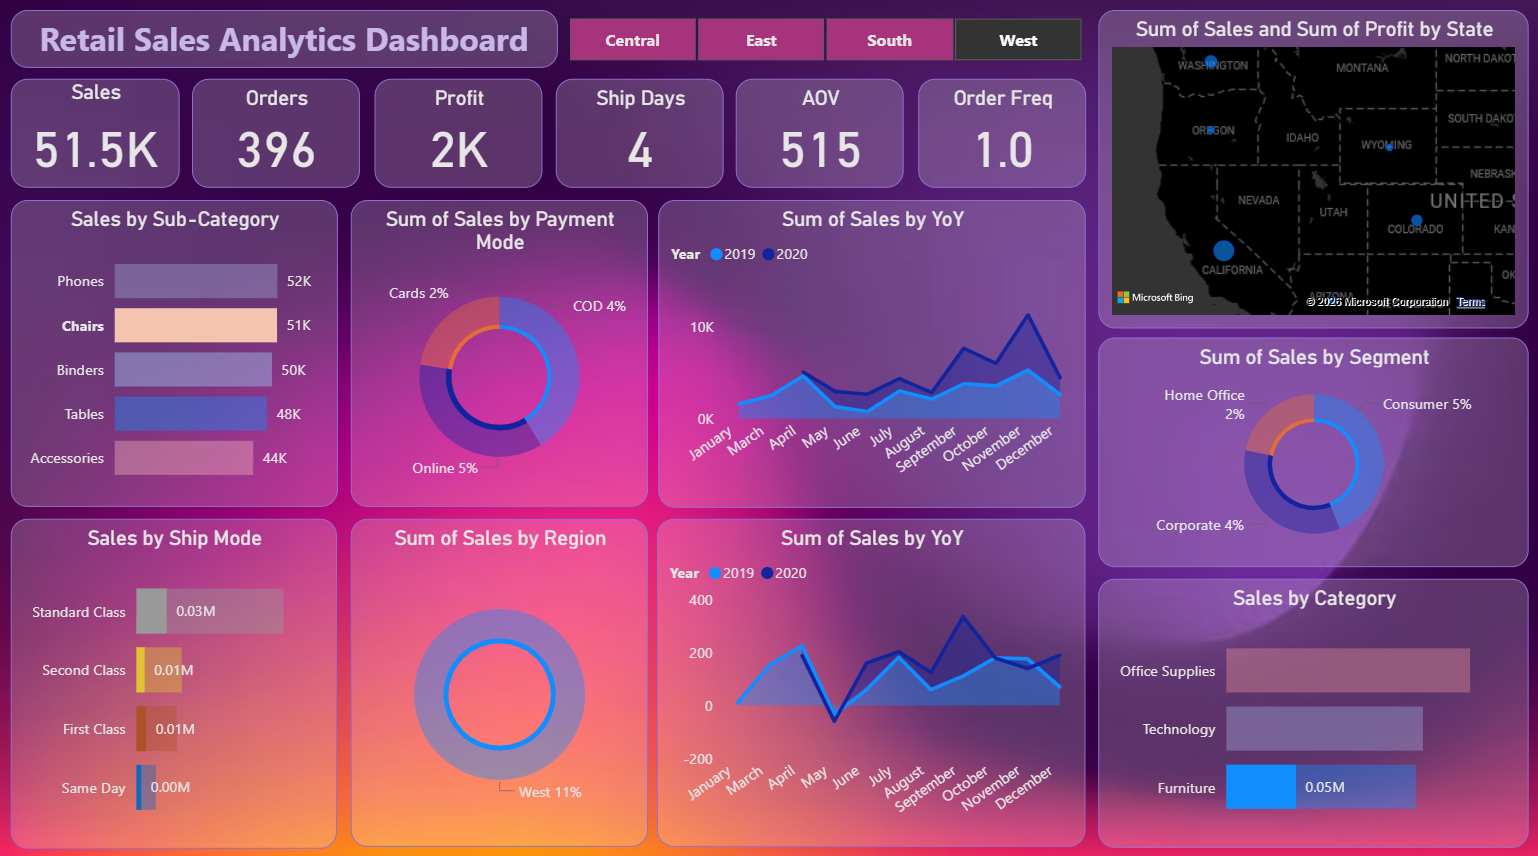

This screenshot's page, from the dashboard's own definition file:
{"tool":"powerbi","page":{"name":"Page 1","canvas":[1280,720],"ordinal":0},"visuals":[{"type":"clusteredBarChart","title":"Sales by Category","fields":{"Category":["SuperStore_Sales_Dataset.Category"],"Y":["Sum(SuperStore_Sales_Dataset.Sales)"]},"box":[912.9,484.3,357.1,222.9],"z":0},{"type":"clusteredBarChart","title":"Sales by Sub-Category","fields":{"Category":["SuperStore_Sales_Dataset.Sub-Category"],"Y":["Sum(SuperStore_Sales_Dataset.Sales)"]},"box":[11.1,170.1,271,254.4],"z":1000},{"type":"clusteredBarChart","title":"Sales by Ship Mode","fields":{"Category":["SuperStore_Sales_Dataset.Ship Mode"],"Y":["Sum(SuperStore_Sales_Dataset.Sales)"]},"box":[11.3,433.8,270.4,273.2],"z":2000},{"type":"stackedAreaChart","title":"Sum of Sales by YoY","fields":{"Y":["Sum(SuperStore_Sales_Dataset.Sales)"],"Category":["SuperStore_Sales_Dataset.Order Date.Variation.Date Hierarchy.Month"],"Series":["SuperStore_Sales_Dataset.Order Date.Variation.Date Hierarchy.Year"]},"box":[547.7,169.8,354.7,255],"z":3000},{"type":"map","fields":{"Category":["SuperStore_Sales_Dataset.State"],"Size":["Sum(SuperStore_Sales_Dataset.Sales)"]},"box":[912.9,12.9,357.1,264.3],"z":4000},{"type":"donutChart","fields":{"Category":["SuperStore_Sales_Dataset.Segment"],"Y":["Sum(SuperStore_Sales_Dataset.Sales)"]},"box":[912.9,284.3,357.1,190],"z":5000},{"type":"donutChart","fields":{"Category":["SuperStore_Sales_Dataset.Region"],"Y":["Sum(SuperStore_Sales_Dataset.Sales)"]},"box":[293,433.8,246.5,271.8],"z":6000},{"type":"donutChart","fields":{"Category":["SuperStore_Sales_Dataset.Payment Mode"],"Y":["Sum(SuperStore_Sales_Dataset.Sales)"]},"box":[293.1,170.1,246.1,254.4],"z":7000},{"type":"slicer","fields":{"Values":["SuperStore_Sales_Dataset.Region"]},"box":[448.6,12.9,474.3,48.6],"z":8000},{"type":"stackedAreaChart","title":"Sum of Sales by YoY","fields":{"Category":["SuperStore_Sales_Dataset.Order Date.Variation.Date Hierarchy.Month"],"Series":["SuperStore_Sales_Dataset.Order Date.Variation.Date Hierarchy.Year"],"Y":["Sum(SuperStore_Sales_Dataset.Profit)"]},"box":[547.5,434.1,355.3,272.4],"z":9000},{"type":"textbox","box":[11.1,12.4,453.5,48.4],"z":10000},{"type":"card","title":"Sales","fields":{"Values":["Sum(SuperStore_Sales_Dataset.Sales)"]},"box":[11.3,69,140,90],"z":11000},{"type":"card","title":"Orders","fields":{"Values":["Sum(SuperStore_Sales_Dataset.Quantity)"]},"box":[162,69,139.4,90.1],"z":12000},{"type":"card","title":"Profit","fields":{"Values":["Sum(SuperStore_Sales_Dataset.Profit)"]},"box":[312.7,69,139.4,90.1],"z":13000},{"type":"card","title":"Ship Days","fields":{"Values":["Avg(SuperStore_Sales_Dataset.AvgDelivery)"]},"box":[463.4,69,139.4,90.1],"z":14000},{"type":"card","title":"AOV","fields":{"Values":["Salesforecast.AOV"]},"box":[612.7,69,139.4,90.1],"z":15000},{"type":"card","title":"Order Freq","fields":{"Values":["Salesforecast.Orders per Customer"]},"box":[763.4,69,139.4,90.1],"z":16000}]}

Visuals, with their boxes in screenshot pixels (x1, y1, x2, y2), scaled from the page's 1280x720 canvas onto the 1538x856 screenshot:
"Sales by Category" clusteredBarChart: rect(1097, 576, 1526, 841)
"Sales by Sub-Category" clusteredBarChart: rect(13, 202, 339, 505)
"Sales by Ship Mode" clusteredBarChart: rect(14, 516, 338, 841)
"Sum of Sales by YoY" stackedAreaChart: rect(658, 202, 1084, 505)
map - SuperStore_Sales_Dataset.State x Sum(SuperStore_Sales_Dataset.Sales): rect(1097, 15, 1526, 330)
donutChart - SuperStore_Sales_Dataset.Segment x Sum(SuperStore_Sales_Dataset.Sales): rect(1097, 338, 1526, 564)
donutChart - SuperStore_Sales_Dataset.Region x Sum(SuperStore_Sales_Dataset.Sales): rect(352, 516, 648, 839)
donutChart - SuperStore_Sales_Dataset.Payment Mode x Sum(SuperStore_Sales_Dataset.Sales): rect(352, 202, 648, 505)
slicer - SuperStore_Sales_Dataset.Region: rect(539, 15, 1109, 73)
"Sum of Sales by YoY" stackedAreaChart: rect(658, 516, 1085, 840)
textbox: rect(13, 15, 558, 72)
"Sales" card: rect(14, 82, 182, 189)
"Orders" card: rect(195, 82, 362, 189)
"Profit" card: rect(376, 82, 543, 189)
"Ship Days" card: rect(557, 82, 724, 189)
"AOV" card: rect(736, 82, 904, 189)
"Order Freq" card: rect(917, 82, 1085, 189)
